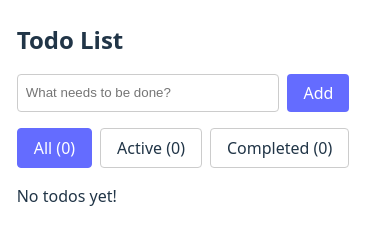
Test: TodoList Component › adds todo when user presses Enter key
Note: Type and press Enter
Type "Walk the dog" into the field with test id "todo-input". click: (148, 93)
box: [17, 74, 279, 112]
Then press Enter
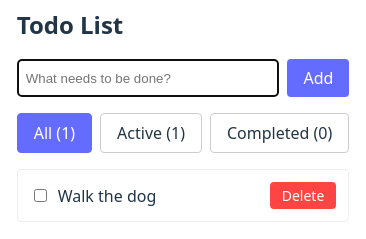
Check: the text "Walk the dog" is shown, box [58, 185, 156, 207]
